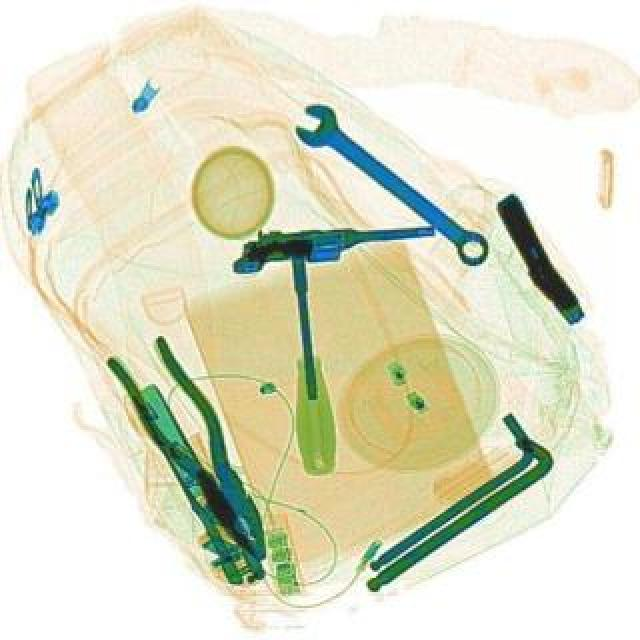gun: (476, 190, 600, 330), (226, 214, 434, 274)
scissors: (282, 92, 498, 276)
wrench: (100, 328, 298, 574)
